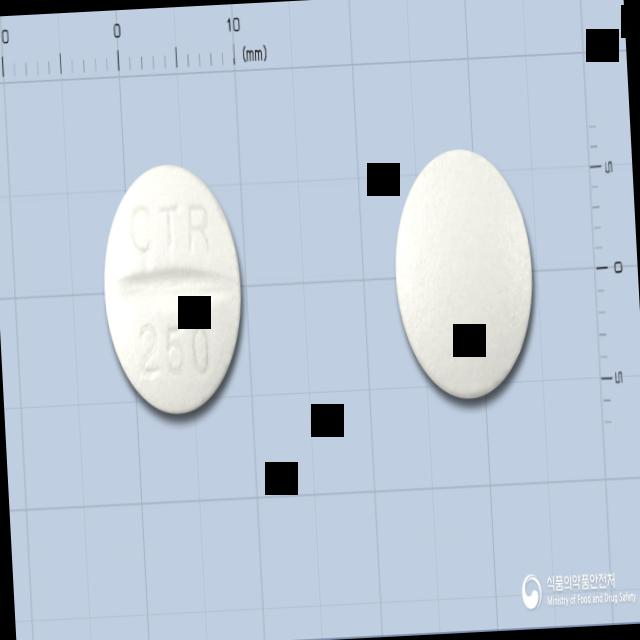Citro: (95, 158, 251, 422)
